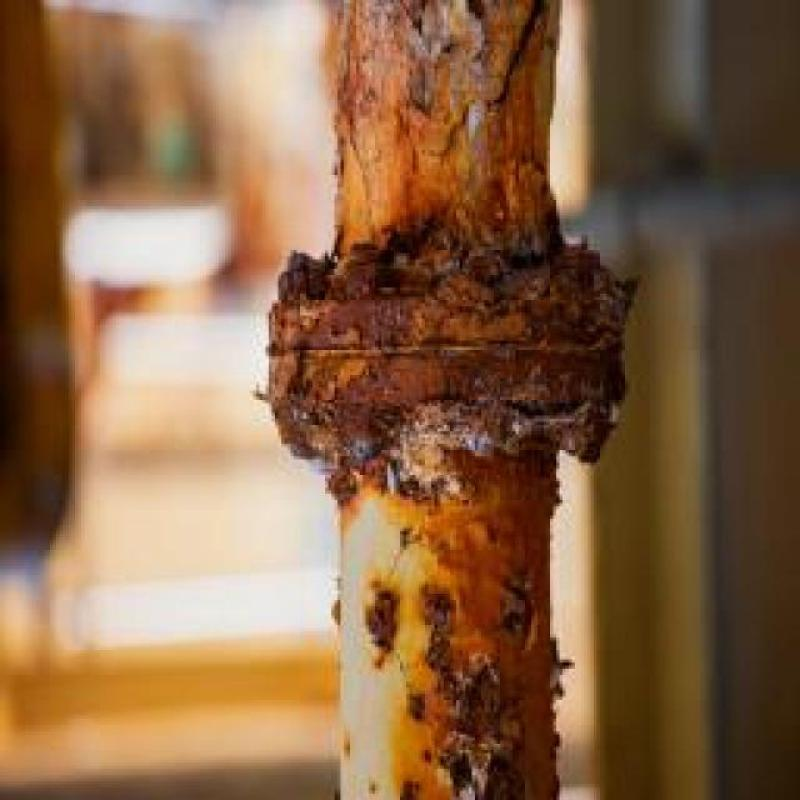corrosion: (257, 0, 642, 798)
